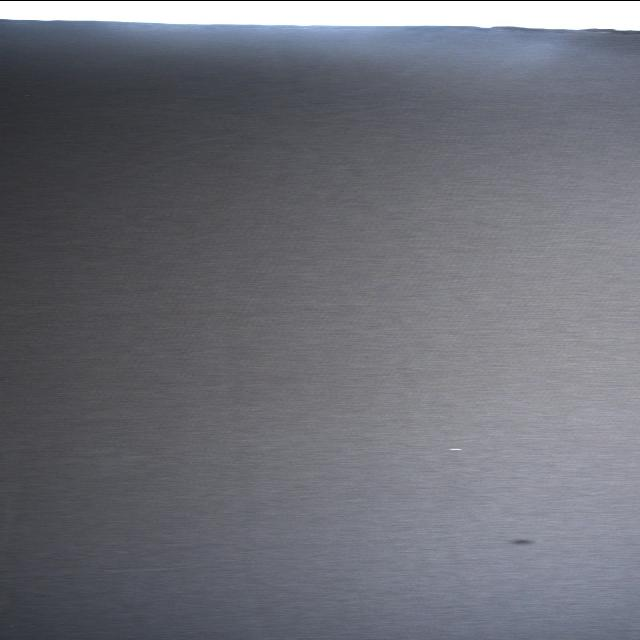crease: (88, 101, 417, 187), (6, 300, 290, 325), (0, 560, 217, 584)
whiteDefect: (446, 447, 472, 449)
